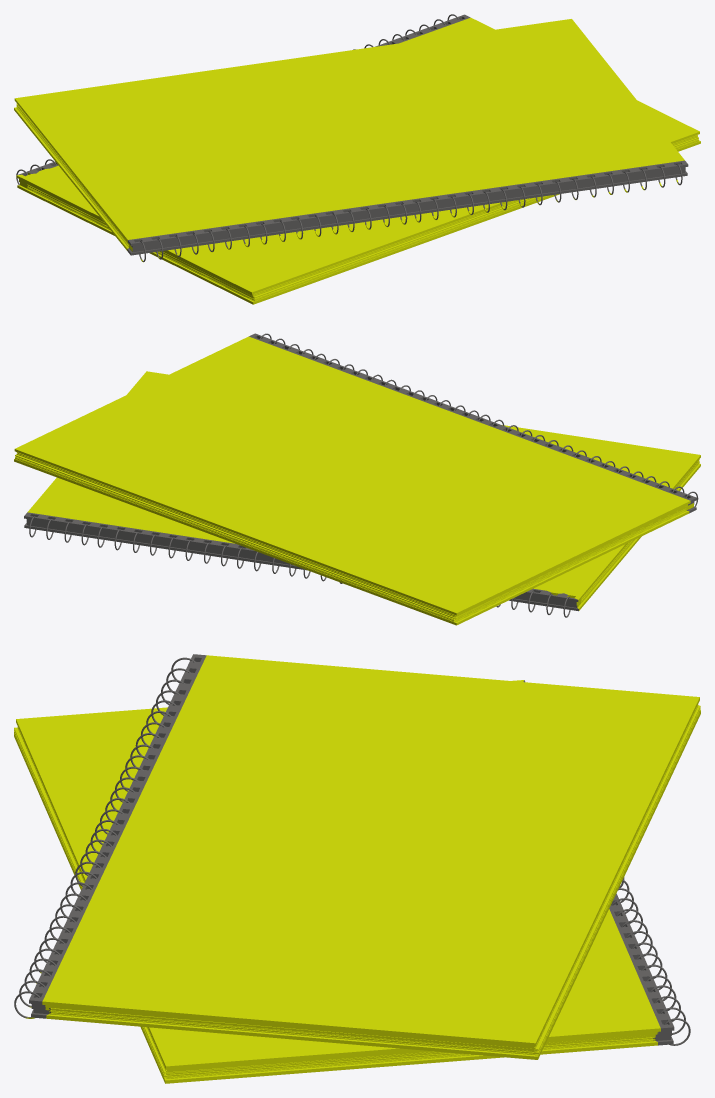
Rendered from DeskDrawerNotebooks.fbx.
3 views of the same model, one above another, from view 1: azimuth 30°, elevation 25°; view 2: azimuth 150°, elevation 25°; view 3: azimuth 270°, elevation 25° (orthographic). The views are drawn at different scales.
Visible parts, largest first — view 1: Closed Notebooks; view 2: Closed Notebooks; view 3: Closed Notebooks.
Boxes of the visible parts, left/top/right/bottom form: Closed Notebooks: left=14, top=14, right=700, bottom=304; Closed Notebooks: left=14, top=333, right=700, bottom=625; Closed Notebooks: left=14, top=654, right=700, bottom=1083.
Size of the model in its own units: 289 by 17.98 by 216.
